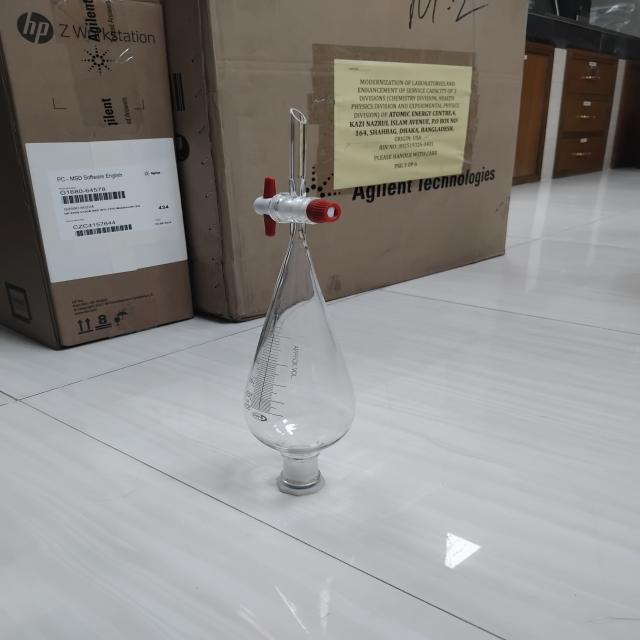Separating_Funnel: (205, 88, 410, 512)
